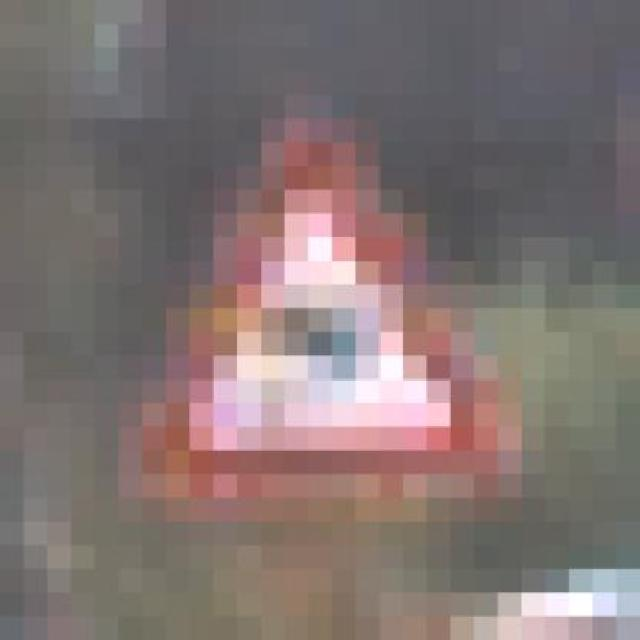Slippery Road Ahead: (95, 70, 522, 522)
